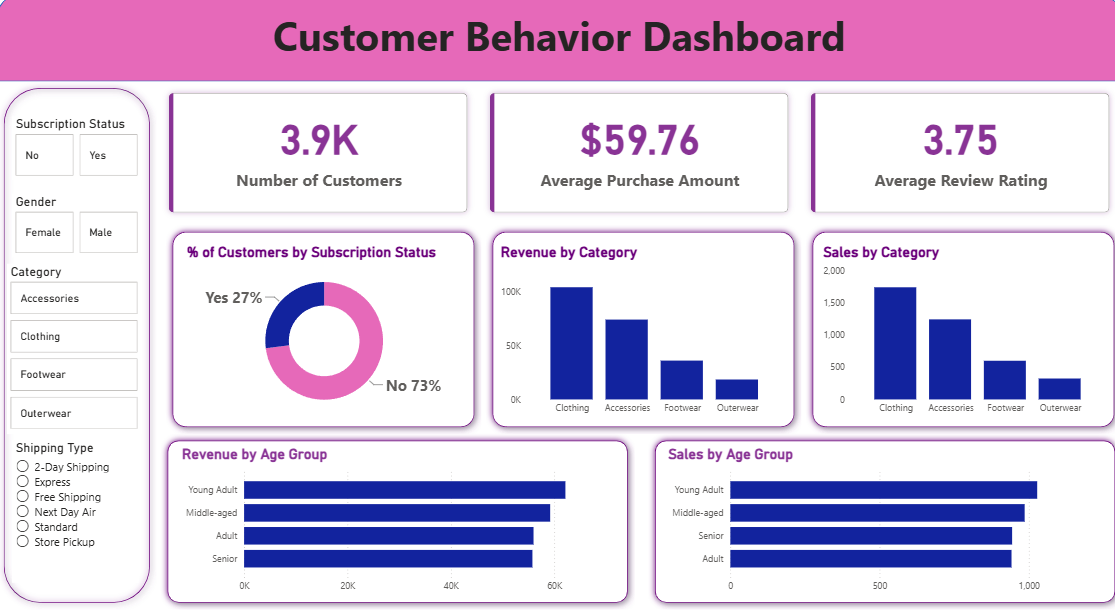

The dashboard page shown, as its layout file describes it:
{"tool":"powerbi","page":{"name":"Page 1","canvas":[1500,820],"ordinal":0},"visuals":[{"type":"cardVisual","fields":{"Data":["public customer.Number of Customers","public customer.Average Purchase Amount","public customer.Average Review Rating"]},"box":[212.9,115.3,1286.5,191.6],"z":2000},{"type":"shape","box":[218.3,585.6,631.7,234.2],"z":2500,"group":"g1"},{"type":"shape","box":[0,0,1499.4,115.3],"z":3000},{"type":"textbox","box":[0,12.4,1499.4,102.9],"z":4000},{"type":"shape","box":[225.4,307,420.5,278.6],"z":5000},{"type":"donutChart","title":"% of Customers by Subscription Status","fields":{"Category":["public customer.subscription_status"],"Y":["CountNonNull(public customer.customer_id)"]},"box":[248.4,331.8,376.2,237.8],"z":6000},{"type":"shape","box":[1078.9,307,420.5,278.6],"z":7000},{"type":"shape","box":[652.1,307,420.5,278.6],"z":8000},{"type":"clusteredColumnChart","title":"Revenue by Category","fields":{"Category":["public customer.category"],"Y":["Sum(public customer.purchase_amount)"]},"box":[667.2,331.8,385.1,237.8],"z":9000},{"type":"clusteredColumnChart","title":"Sales by Category","fields":{"Category":["public customer.category"],"Y":["CountNonNull(public customer.customer_id)"]},"box":[1096.6,331.8,385.1,237.8],"z":10000},{"type":"shape","box":[0,115.3,212.9,704.5],"z":11000},{"type":"advancedSlicerVisual","fields":{"Values":["public customer.subscription_status"]},"box":[19.5,161.5,173.9,85.2],"z":12000},{"type":"advancedSlicerVisual","fields":{"Values":["public customer.gender"]},"box":[19.5,264.4,173.9,85.2],"z":13000},{"type":"advancedSlicerVisual","fields":{"Values":["public customer.category"]},"box":[13.9,357.9,179.7,227],"z":14000},{"type":"listSlicer","fields":{"Values":["public customer.shipping_type"]},"box":[19.5,593.3,168.5,190.8],"z":15000},{"type":"shape","box":[867.7,585.6,631.7,234.2],"z":16000},{"type":"clusteredBarChart","title":"Sales by Age Group","fields":{"Category":["public customer.age_group"],"Y":["CountNonNull(public customer.customer_id)"]},"box":[890.8,601.5,585.6,204.1],"z":17000},{"type":"clusteredBarChart","title":"Revenue by Age Group","fields":{"Category":["public customer.age_group"],"Y":["Sum(public customer.purchase_amount)"]},"box":[241.4,601.6,585.6,204.1],"z":17500,"group":"g1"},{"type":"group","id":"g1","title":"Group 1","box":[218.3,585.6,631.7,234.2],"z":17501}]}

Visuals, with their boxes in screenshot pixels (x1, y1, x2, y2), scaled from the page's 1500x820 canvas onto the 1115x610 screenshot:
cardVisual - public customer.Number of Customers x public customer.Average Purchase Amount: [158, 86, 1114, 228]
shape: [162, 436, 632, 609]
shape: [0, 0, 1114, 86]
textbox: [0, 9, 1114, 86]
shape: [168, 228, 480, 436]
"% of Customers by Subscription Status" donutChart: [185, 247, 464, 424]
shape: [802, 228, 1114, 436]
shape: [485, 228, 797, 436]
"Revenue by Category" clusteredColumnChart: [496, 247, 782, 424]
"Sales by Category" clusteredColumnChart: [815, 247, 1101, 424]
shape: [0, 86, 158, 609]
advancedSlicerVisual - public customer.subscription_status: [14, 120, 144, 184]
advancedSlicerVisual - public customer.gender: [14, 197, 144, 260]
advancedSlicerVisual - public customer.category: [10, 266, 144, 435]
listSlicer - public customer.shipping_type: [14, 441, 140, 583]
shape: [645, 436, 1114, 609]
"Sales by Age Group" clusteredBarChart: [662, 447, 1097, 599]
"Revenue by Age Group" clusteredBarChart: [179, 448, 615, 599]
"Group 1" group: [162, 436, 632, 609]
